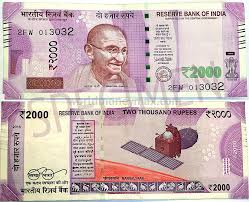twoThousand: (17, 20, 235, 83)
